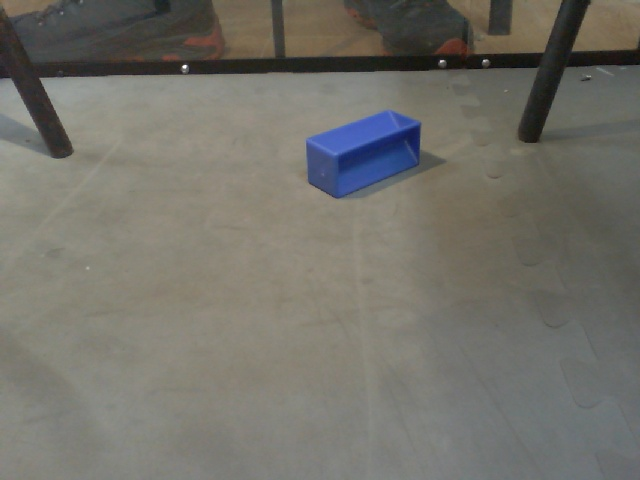BlueSample: (304, 105, 425, 200)
